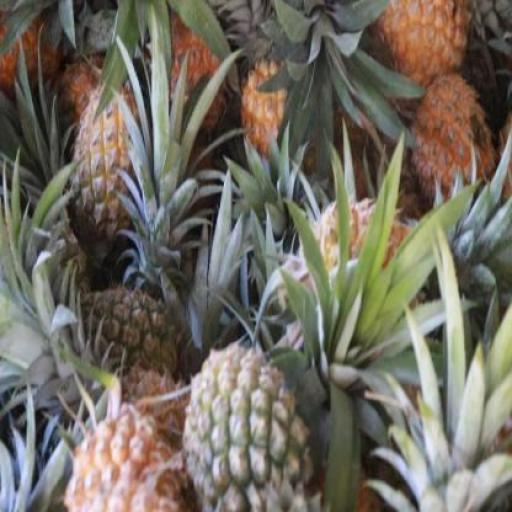------------------------------: (184, 343, 316, 511), (70, 90, 144, 247)
Pineapple - v8 v1: (403, 105, 493, 236), (378, 0, 468, 123)
